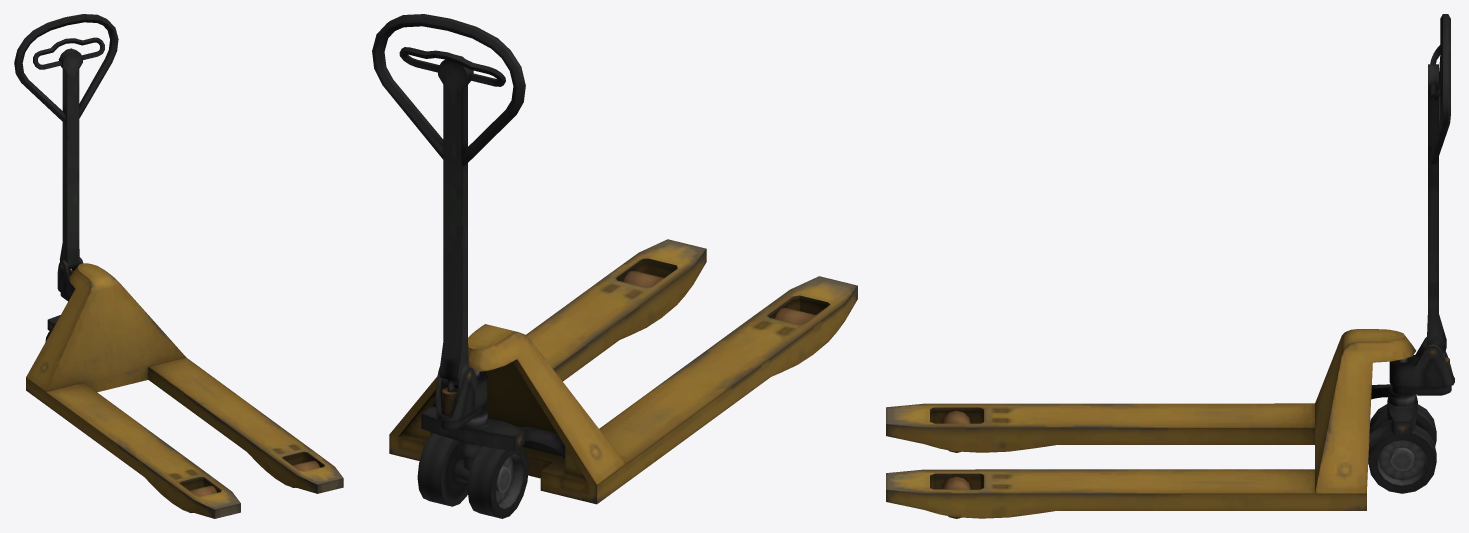
The model's file is PalletJack.obj.
3 renders of one model, left to right at view 1: azimuth 30°, elevation 25°; view 2: azimuth 150°, elevation 25°; view 3: azimuth 270°, elevation 25°, orthographic. The views are drawn at different scales.
Parts seen in each view (by area): view 1: g0; view 2: g0; view 3: g0.
Boxes of the visible parts, x1,y1,x2,y2 form: g0: (14,14,343,518); g0: (372,14,857,518); g0: (886,14,1454,518).
Size of the model in its own units: 0.535 by 1.24 by 1.42.
1 material, 1 textured.
